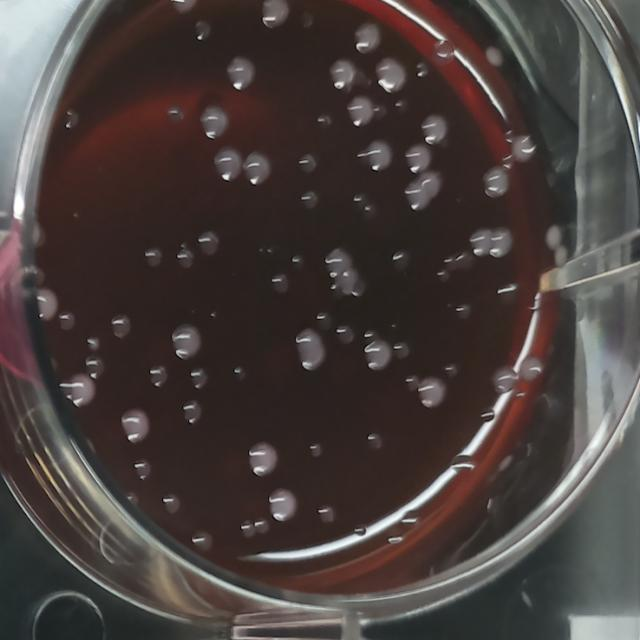Alteromonas: (180, 398, 205, 428), (83, 351, 108, 381), (196, 228, 220, 259), (110, 312, 133, 342), (390, 247, 414, 275), (268, 271, 292, 298), (190, 528, 214, 555), (296, 151, 320, 177), (147, 362, 170, 389), (189, 365, 212, 392), (132, 456, 154, 484), (160, 490, 182, 518), (192, 17, 215, 43), (364, 431, 387, 454), (175, 248, 196, 272), (143, 246, 164, 270), (335, 322, 356, 346), (298, 188, 319, 212), (56, 309, 76, 334), (414, 60, 434, 82), (391, 340, 411, 362), (230, 362, 249, 385), (290, 252, 309, 275), (392, 98, 412, 119), (441, 360, 460, 381), (315, 309, 333, 331), (362, 202, 380, 224), (316, 112, 334, 134), (454, 301, 473, 321), (308, 439, 324, 462), (351, 191, 368, 210)
Pseudoalteromonas: (291, 324, 329, 374), (242, 438, 282, 479), (168, 321, 204, 364), (374, 54, 409, 97), (224, 50, 258, 94), (265, 486, 301, 527), (198, 102, 232, 141), (241, 148, 273, 189), (213, 143, 245, 184), (119, 406, 151, 444), (67, 370, 98, 409), (417, 374, 448, 412), (329, 56, 360, 94), (33, 283, 61, 324), (364, 138, 395, 174), (362, 337, 392, 374), (259, 0, 292, 33), (481, 163, 511, 199), (420, 111, 450, 147), (352, 19, 382, 55), (404, 141, 434, 175), (346, 94, 376, 128), (324, 244, 352, 280), (403, 179, 432, 213), (489, 224, 515, 260), (509, 132, 537, 165), (337, 267, 364, 299), (468, 226, 494, 259), (418, 166, 443, 198)
